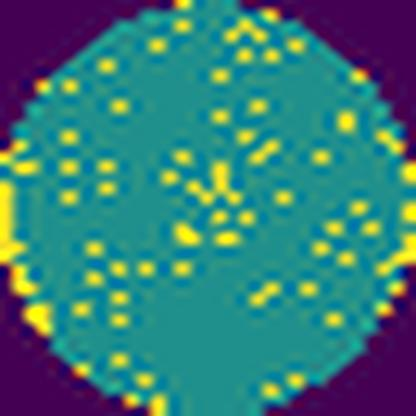Edge-Loc: (0, 174, 40, 299), (25, 299, 60, 339)
